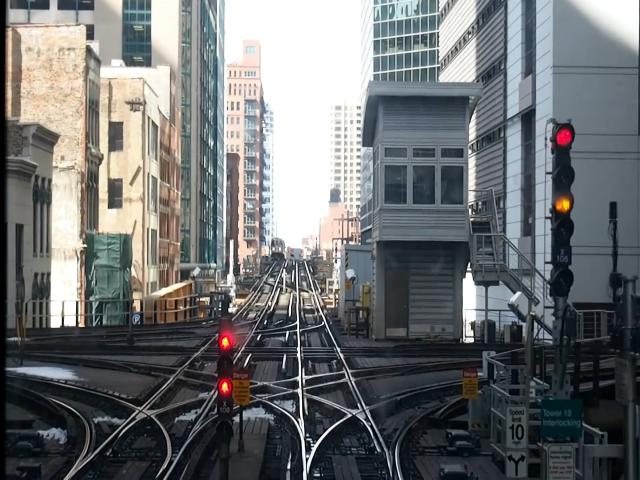signal light: (550, 119, 577, 307), (214, 317, 238, 451)
